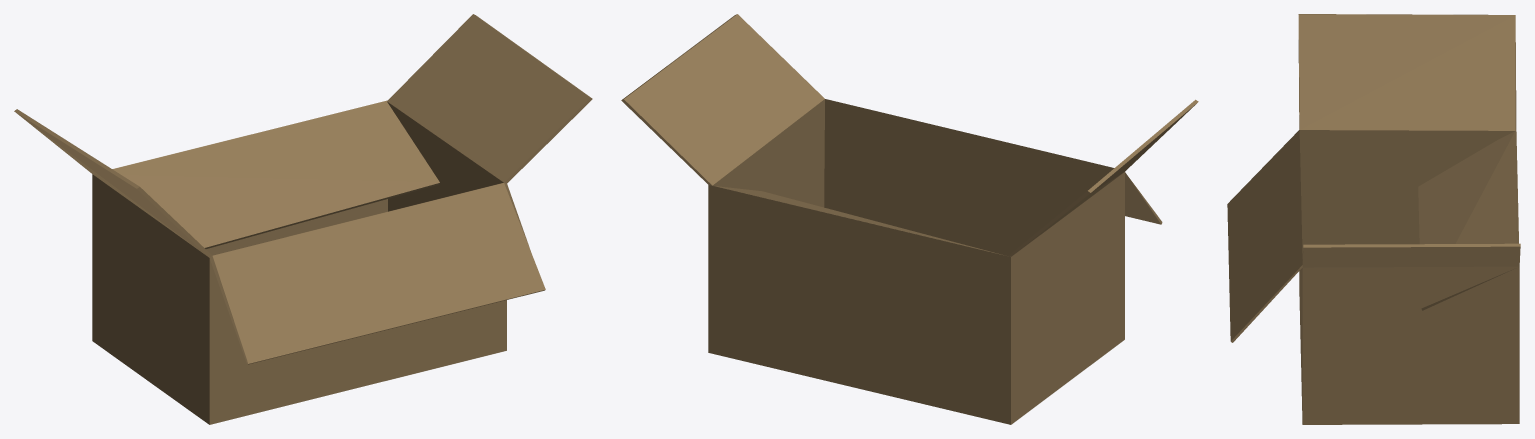
File: SM_Props_Interior_Generic_Warehouse_Carton_Box_04.fbx
The picture shows the model from 3 angles, left to right: view 1: azimuth 30°, elevation 25°; view 2: azimuth 150°, elevation 25°; view 3: azimuth 270°, elevation 25°; orthographic projection. The views are drawn at different scales.
Visible parts, largest first — view 1: SM_Props_Interior_Generic_Warehouse_Carton_Box_04; view 2: SM_Props_Interior_Generic_Warehouse_Carton_Box_04; view 3: SM_Props_Interior_Generic_Warehouse_Carton_Box_04.
Boxes of the visible parts, box(x1,y1,x2,y2) form: SM_Props_Interior_Generic_Warehouse_Carton_Box_04: box(14, 14, 592, 424); SM_Props_Interior_Generic_Warehouse_Carton_Box_04: box(621, 14, 1198, 424); SM_Props_Interior_Generic_Warehouse_Carton_Box_04: box(1227, 14, 1520, 424).
Bounding box in the file's own units: 75.96 × 39.77 × 43.86.
